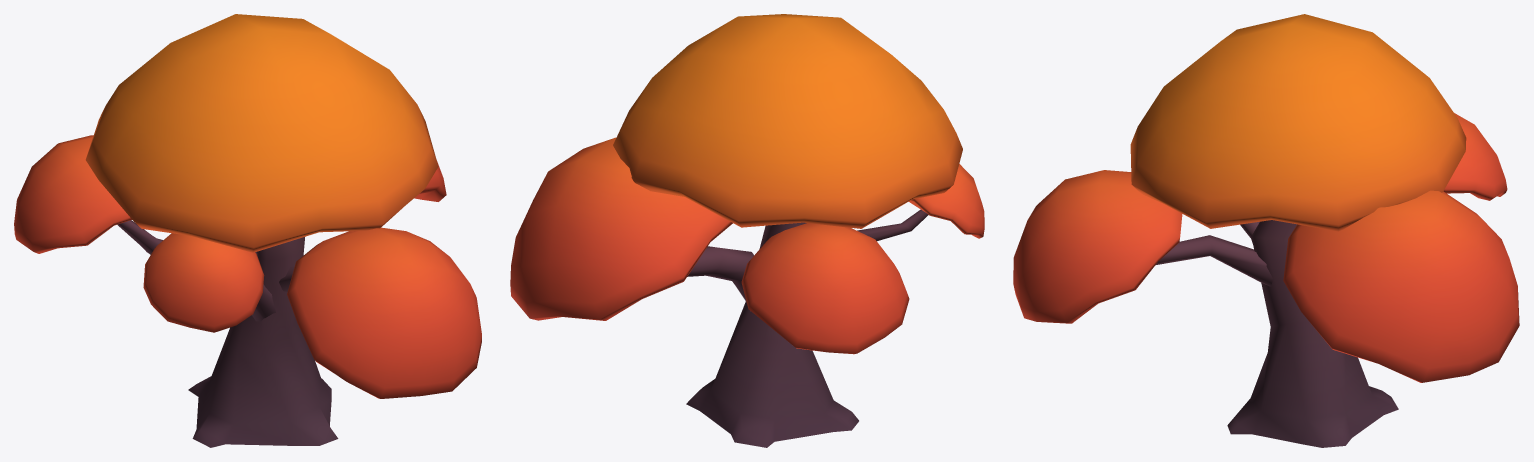
The model's file is map-old-tree.glb.
The picture shows the model from 3 angles, left to right: view 1: azimuth 30°, elevation 25°; view 2: azimuth 150°, elevation 25°; view 3: azimuth 270°, elevation 25°; orthographic projection. The views are drawn at different scales.
Parts seen in each view (by area): view 1: Tree.055; view 2: Tree.055; view 3: Tree.055.
Boxes of the visible parts, left/top/right/bottom form: Tree.055: left=14, top=14, right=481, bottom=447; Tree.055: left=510, top=14, right=984, bottom=447; Tree.055: left=1013, top=14, right=1519, bottom=447.
Size of the model in its own units: 28.81 by 28.35 by 33.35.
1 material, 1 textured.
